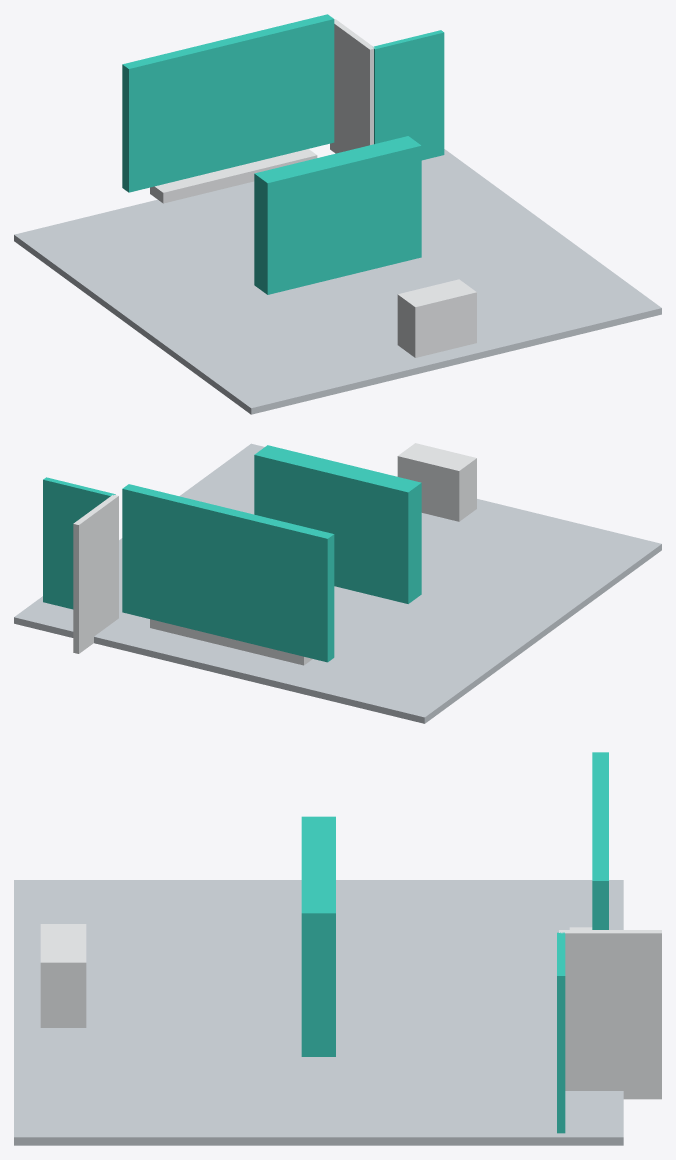
3 views of the same model, one above another, from view 1: azimuth 30°, elevation 25°; view 2: azimuth 150°, elevation 25°; view 3: azimuth 270°, elevation 25° (orthographic). The views are drawn at different scales.
Parts seen in each view (by area): view 1: Exhibition Booth Concept; view 2: Exhibition Booth Concept; view 3: Exhibition Booth Concept.
Part boxes in pixels (<box>): Exhibition Booth Concept: <box>14,14,661,414</box>; Exhibition Booth Concept: <box>14,443,661,723</box>; Exhibition Booth Concept: <box>14,752,661,1145</box>.
Size of the model in its own units: 8 by 2.9 by 8.51.
